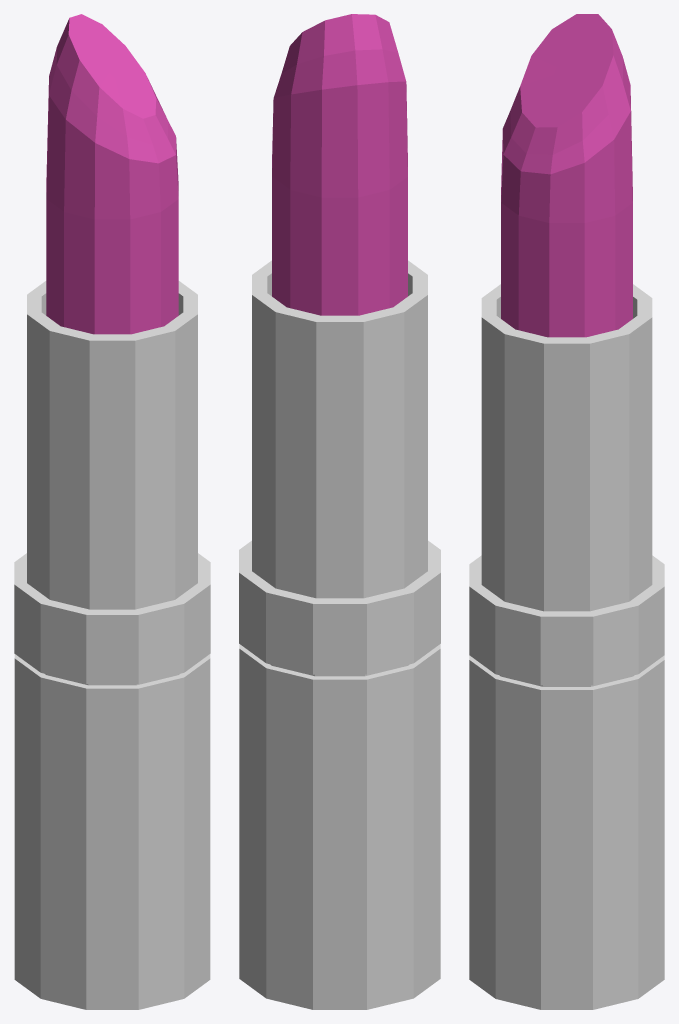
File: lipsticks.fbx
3 renders of one model, left to right at view 1: azimuth 30°, elevation 25°; view 2: azimuth 150°, elevation 25°; view 3: azimuth 270°, elevation 25°, orthographic. The views are drawn at different scales.
Parts seen in each view (by area): view 1: Cylinder; view 2: Cylinder; view 3: Cylinder.
Boxes of the visible parts, x1,y1,x2,y2 form: Cylinder: [14, 14, 210, 1009]; Cylinder: [239, 14, 440, 1009]; Cylinder: [469, 14, 664, 1009].
Size of the model in its own units: 56.66 by 301 by 56.66.
